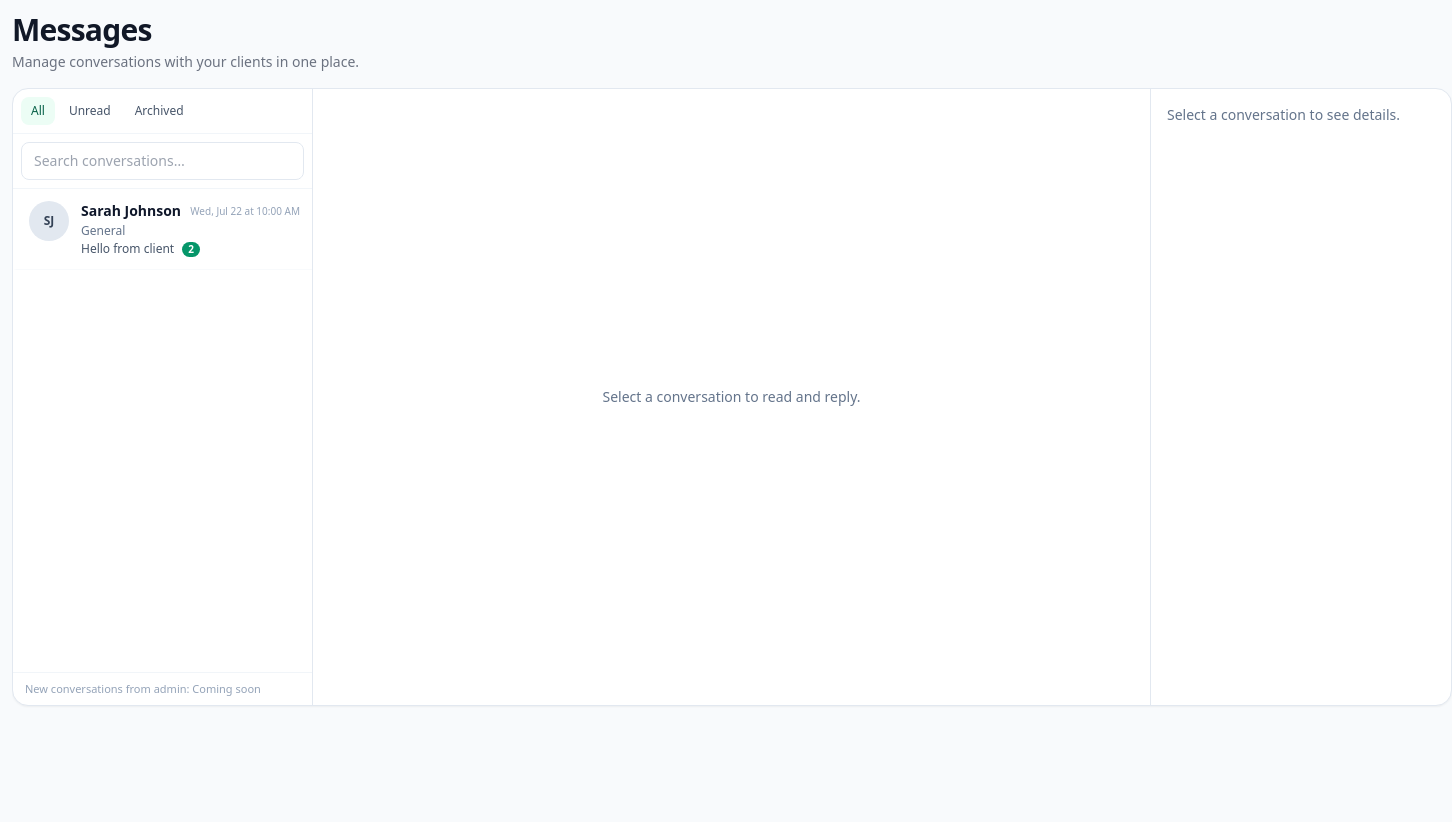
Test: Admin messages › keeps admin composer visible with a long thread
Click the button with test id "admin-messages-conversation-row" at (49, 221), box x1=13 y1=189 x2=312 y2=270
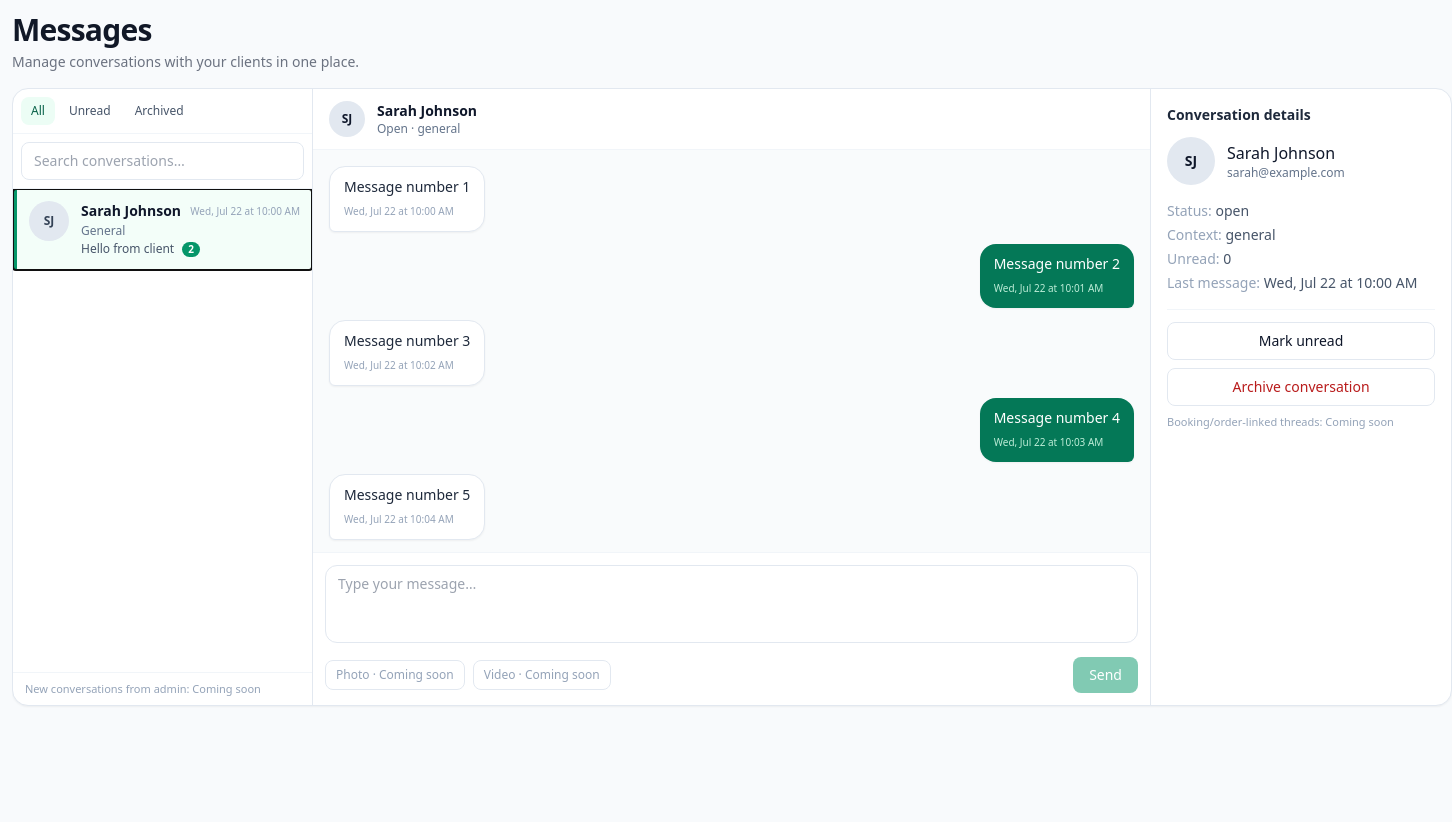
Expected: the element with test id "admin-messages-thread-scroll" is shown, x1=313 y1=150 x2=1150 y2=552
Expected: the element with test id "admin-messages-composer-shell" is shown, x1=313 y1=552 x2=1150 y2=705
Expected: the text box with placeholder "Type your message…" is shown, x1=325 y1=565 x2=1138 y2=643
